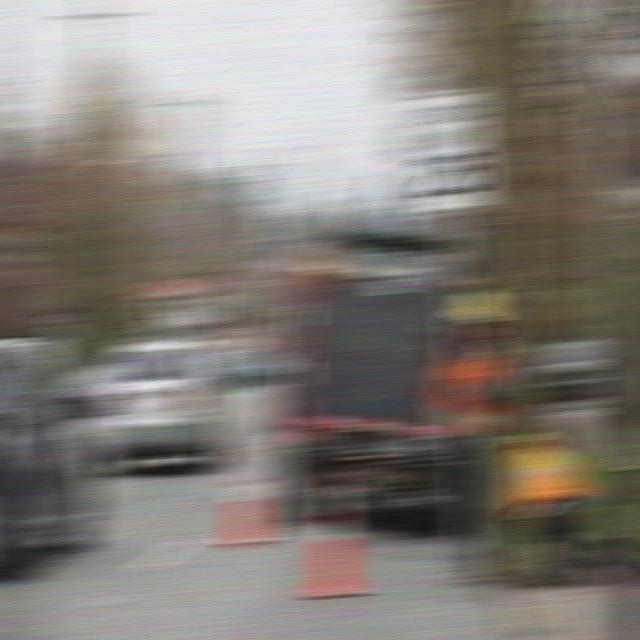speedLimit25: (92, 328, 240, 476), (405, 86, 493, 215)
